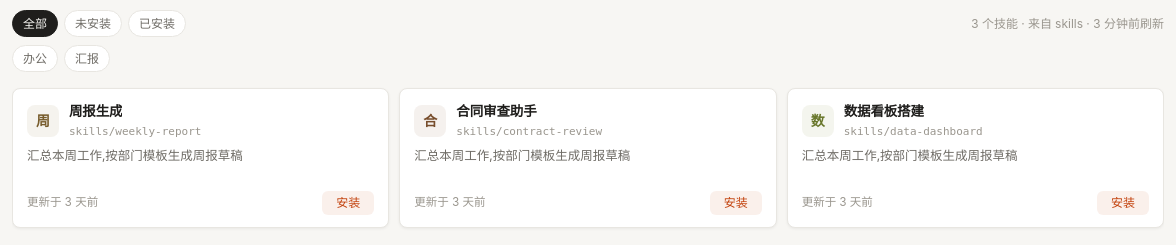
Scenario: 标签筛选(M5 任务 3) › 有标签时渲染标签 chip;点击过滤,再点取消
Expected: the button "汇报" is shown, [64,45,110,72]
Click the button "办公" at (35, 59), box [12,45,58,72]
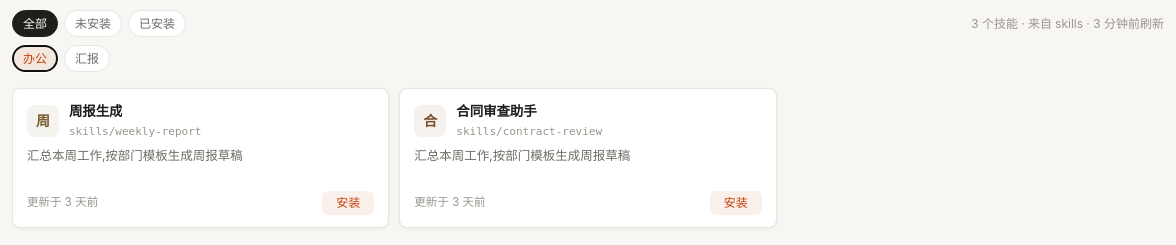
Expected: the text "周报生成" is shown, [69,101,122,123]
Expected: the button "数据看板搭建" is gone
再点同一枚取消筛选
Click the button "办公" at (35, 59), box [12,45,58,72]
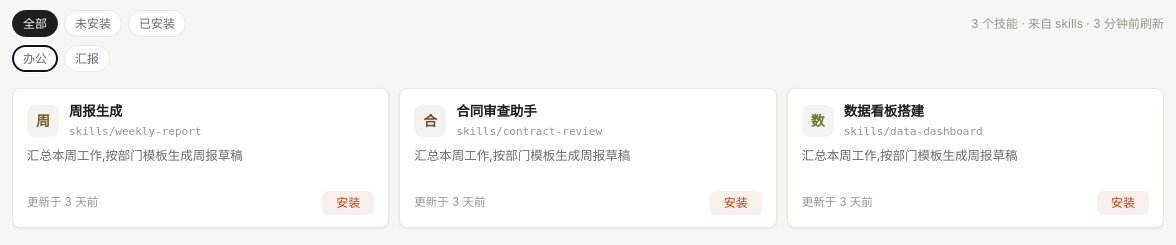
Expected: the text "数据看板搭建" is shown, [844,101,924,123]
